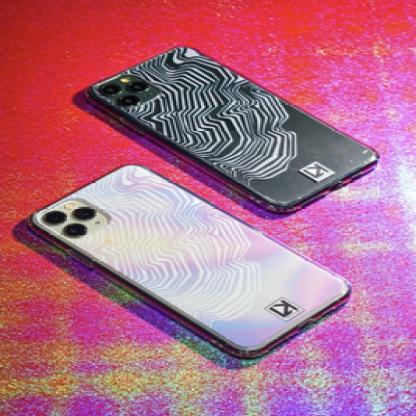cell-phone: (26, 151, 376, 367), (75, 34, 397, 214), (56, 8, 59, 8)
